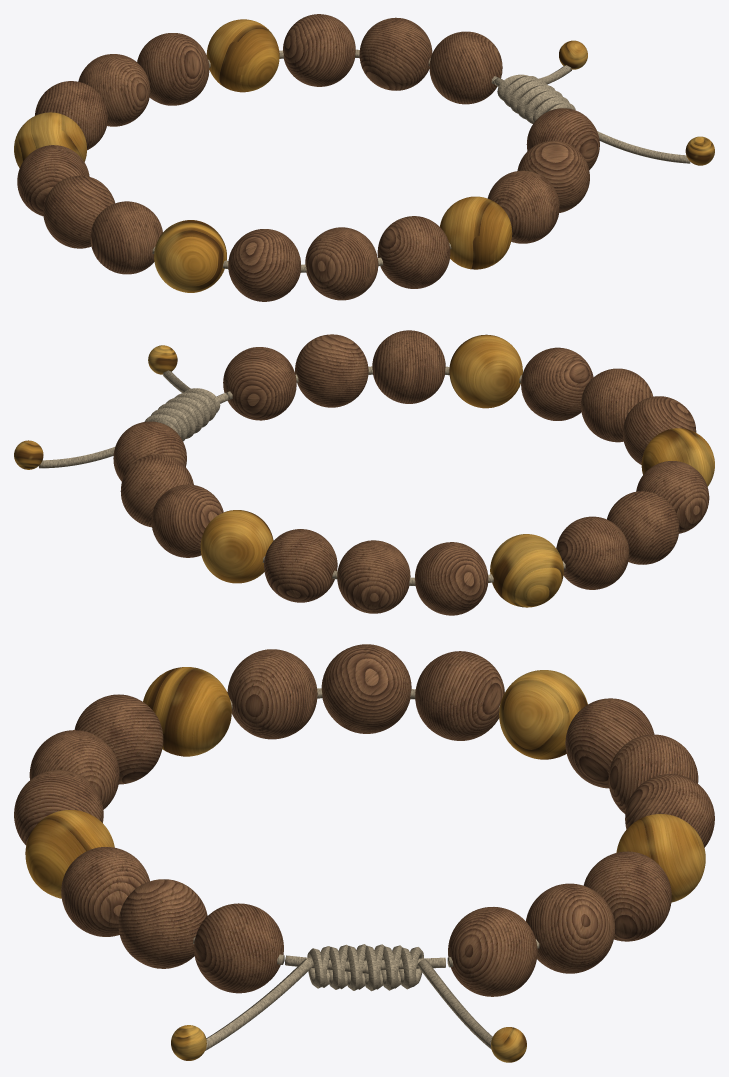
The model's file is orzech-tygrys.glb.
The picture shows the model from 3 angles, top to bottom: view 1: azimuth 30°, elevation 25°; view 2: azimuth 150°, elevation 25°; view 3: azimuth 270°, elevation 25°; orthographic projection. The views are drawn at different scales.
Visible parts, largest first — view 1: bead_round_1.004, bead_round_0.004, bead_round_0.001, bead_round_1, bead_round_2, bead_round_2.004, bead_round_0, bead_round_2.003, bead_round_1.003, bead_round_0.005, bead_round_1.001, bead_round_1.005 (+10 smaller); view 2: bead_round_0.002, bead_round_1.005, bead_round_1.002, bead_round_0.005, bead_round_1.001, bead_round_2.001, bead_round_2.005, bead_round_0.006, bead_round_2.002, bead_round_0.001, bead_round_2.004, bead_round_0.003 (+10 smaller); view 3: bead_round_0.003, bead_round_1.003, bead_round_0, bead_round_0.006, bead_round_2.002, bead_round_1, bead_round_2.005, bead_round_2.003, bead_round_1.002, bead_round_1.005, bead_round_2, bead_round_0.004 (+11 smaller).
Part boxes in pixels (bbox=[...]): bead_round_1.004: bbox=[305, 227, 378, 300]; bead_round_0.004: bbox=[228, 229, 300, 301]; bead_round_0.001: bbox=[206, 19, 279, 92]; bead_round_1: bbox=[359, 17, 432, 90]; bead_round_2: bbox=[283, 14, 355, 86]; bead_round_2.004: bbox=[377, 216, 450, 288]; bead_round_0: bbox=[429, 31, 502, 104]; bead_round_2.003: bbox=[154, 220, 226, 292]; bead_round_1.003: bbox=[90, 201, 162, 274]; bead_round_0.005: bbox=[440, 196, 512, 269]; bead_round_1.001: bbox=[137, 33, 209, 105]; bead_round_1.005: bbox=[487, 170, 559, 243]; bead_round_0.002: bbox=[415, 542, 488, 615]; bead_round_1.005: bbox=[372, 330, 445, 403]; bead_round_1.002: bbox=[490, 534, 563, 607]; bead_round_0.005: bbox=[449, 334, 522, 408]; bead_round_1.001: bbox=[264, 529, 337, 602]; bead_round_2.001: bbox=[337, 540, 410, 613]; bead_round_2.005: bbox=[295, 334, 368, 407]; bead_round_0.006: bbox=[223, 347, 296, 420]; bead_round_2.002: bbox=[556, 516, 629, 589]; bead_round_0.001: bbox=[200, 510, 273, 583]; bead_round_2.004: bbox=[521, 347, 593, 420]; bead_round_0.003: bbox=[607, 491, 679, 564]; bead_round_0.003: bbox=[321, 644, 411, 733]; bead_round_1.003: bbox=[227, 649, 317, 739]; bead_round_0: bbox=[448, 907, 537, 996]; bead_round_0.006: bbox=[194, 903, 283, 993]; bead_round_2.002: bbox=[415, 651, 504, 740]; bead_round_1: bbox=[526, 883, 615, 973]; bead_round_2.005: bbox=[118, 879, 207, 968]; bead_round_2.003: bbox=[143, 667, 231, 756]; bead_round_1.002: bbox=[499, 670, 587, 759]; bead_round_1.005: bbox=[61, 847, 149, 936]; bead_round_2: bbox=[583, 851, 671, 941]; bead_round_0.004: bbox=[74, 694, 163, 784].
Bounding box in the file's own units: 7.53 × 0.8031 × 6.23.
7 materials, 7 textured.
